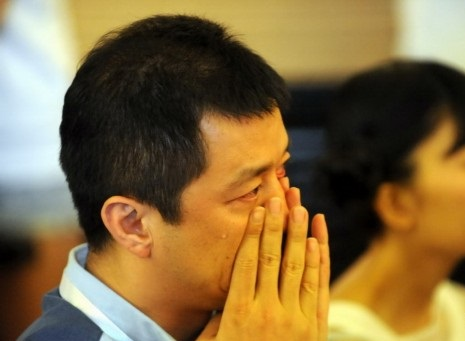face: (148, 104, 306, 297)
